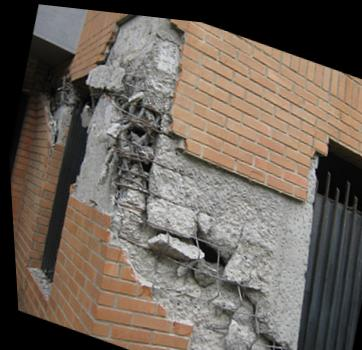crack: (230, 220, 241, 246), (177, 169, 187, 196), (114, 215, 123, 233), (51, 127, 57, 145)
damage: (46, 51, 285, 350)
